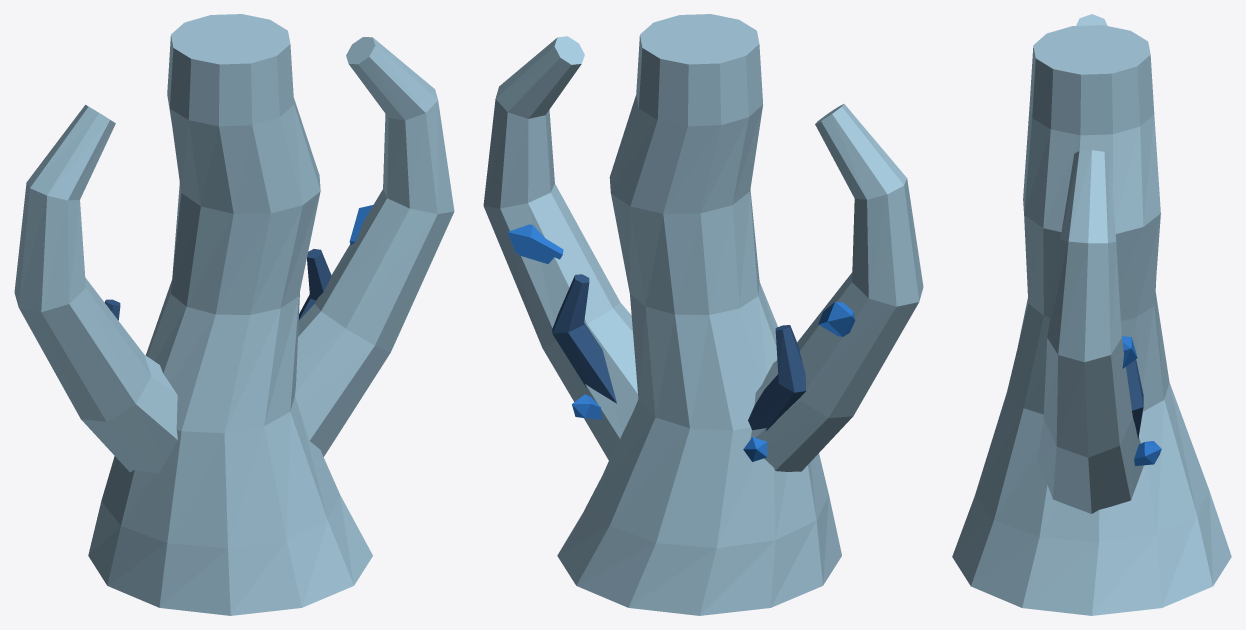
The model's file is SapphireBirchTrunk.glb.
3 renders of one model, left to right at view 1: azimuth 30°, elevation 25°; view 2: azimuth 150°, elevation 25°; view 3: azimuth 270°, elevation 25°, orthographic.
Parts seen in each view (by area): view 1: SapphireBirchTrunk_SapphireBirchBark, SapphireBirchTrunk_SapphireBarkBands; view 2: SapphireBirchTrunk_SapphireBirchBark, SapphireBirchTrunk_SapphireBarkBands, SapphireBirchTrunk_SapphireCrystals; view 3: SapphireBirchTrunk_SapphireBirchBark, SapphireBirchTrunk_SapphireCrystals, SapphireBirchTrunk_SapphireBarkBands.
Part boxes in pixels (bbox=[...]): SapphireBirchTrunk_SapphireBirchBark: bbox=[14, 14, 454, 615]; SapphireBirchTrunk_SapphireBarkBands: bbox=[104, 249, 331, 320]; SapphireBirchTrunk_SapphireBirchBark: bbox=[483, 14, 923, 615]; SapphireBirchTrunk_SapphireBarkBands: bbox=[552, 274, 806, 430]; SapphireBirchTrunk_SapphireCrystals: bbox=[507, 224, 855, 461]; SapphireBirchTrunk_SapphireBirchBark: bbox=[952, 14, 1231, 615]; SapphireBirchTrunk_SapphireCrystals: bbox=[1121, 336, 1161, 465]; SapphireBirchTrunk_SapphireBarkBands: bbox=[1126, 359, 1143, 438].
Bounding box in the file's own units: 2.62 × 3 × 1.5.
